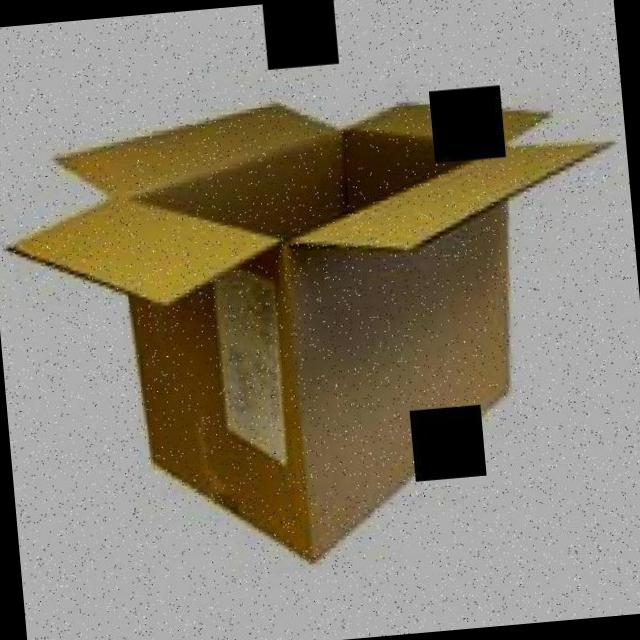box: (0, 40, 640, 591)
